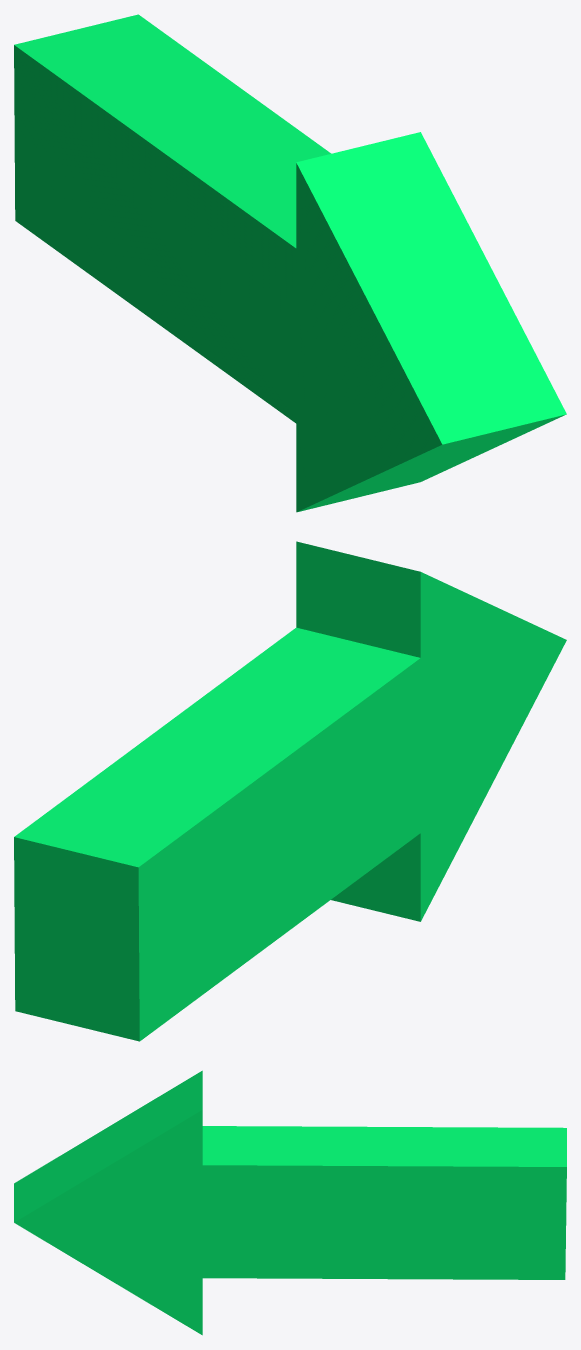
File: arrow.fbx
The picture shows the model from 3 angles, top to bottom: view 1: azimuth 30°, elevation 25°; view 2: azimuth 150°, elevation 25°; view 3: azimuth 270°, elevation 25°; orthographic projection. The views are drawn at different scales.
Parts seen in each view (by area): view 1: Arrow; view 2: Arrow; view 3: Arrow.
Boxes of the visible parts, bbox=[...] form: Arrow: bbox=[14, 14, 566, 512]; Arrow: bbox=[14, 541, 566, 1041]; Arrow: bbox=[14, 1070, 566, 1335].
Bounding box in the file's own units: 1.23 × 3.3 × 7.33.
